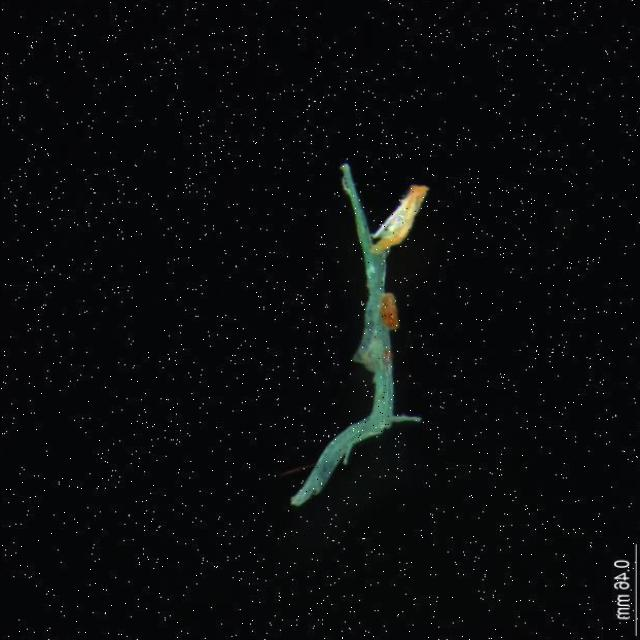Fibre: (287, 164, 428, 514)
